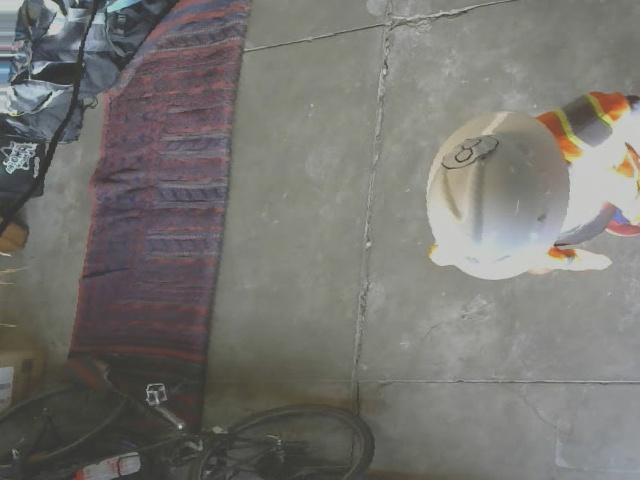eight: (443, 134, 499, 167)
